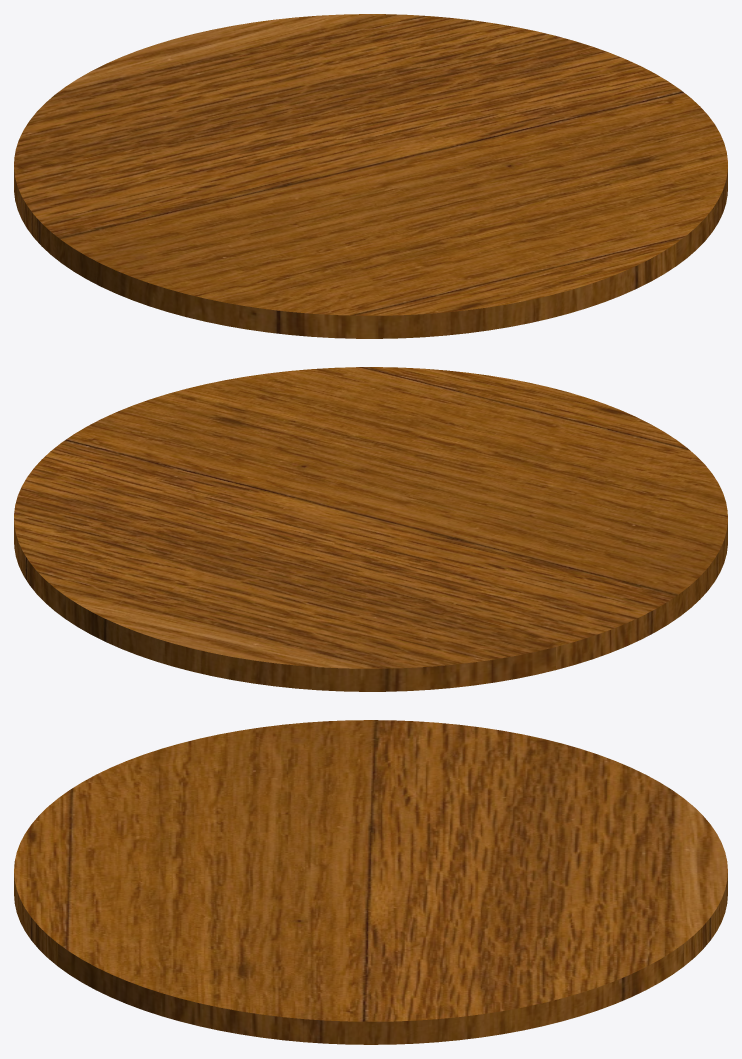
File: RoundTable.fbx
3 views of the same model, one above another, from view 1: azimuth 30°, elevation 25°; view 2: azimuth 150°, elevation 25°; view 3: azimuth 270°, elevation 25° (orthographic).
Parts seen in each view (by area): view 1: pCylinder1; view 2: pCylinder1; view 3: pCylinder1.
Boxes of the visible parts, x1,y1,x2,y2 form: pCylinder1: [14, 14, 727, 338]; pCylinder1: [14, 367, 727, 691]; pCylinder1: [14, 720, 727, 1044].
Size of the model in its own units: 140 by 5 by 140.
Materials: 1 (1 with a texture image).
